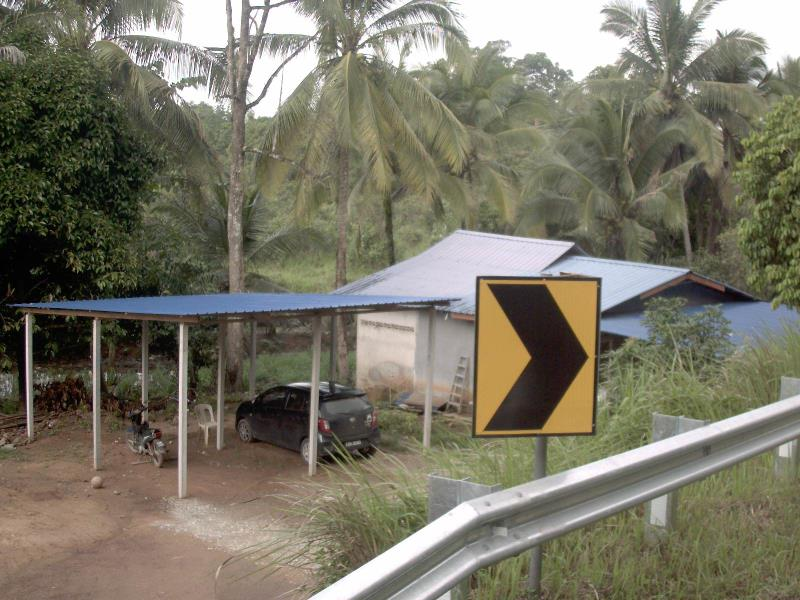traffic_sign: (464, 261, 608, 453)
